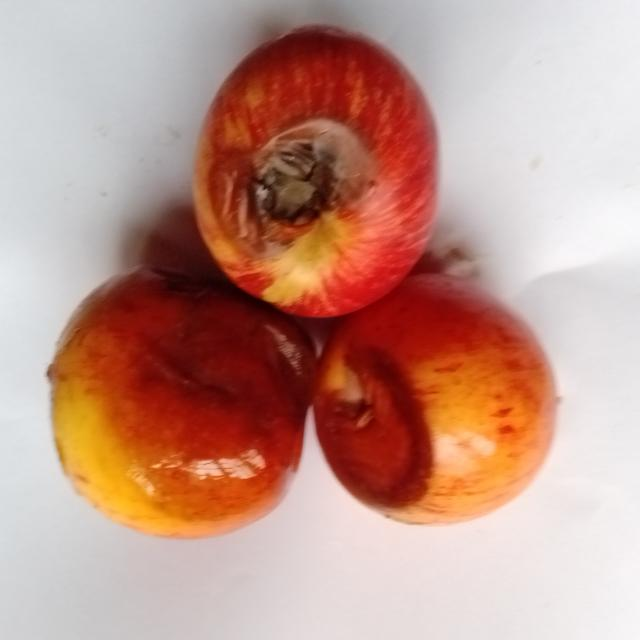apple: (49, 269, 315, 537), (195, 27, 436, 316), (315, 275, 555, 523)
